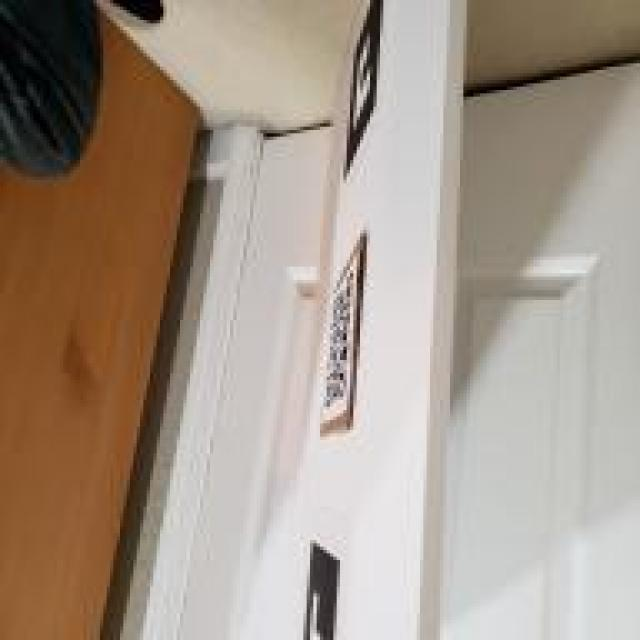QR_CODE: (320, 260, 363, 413)
